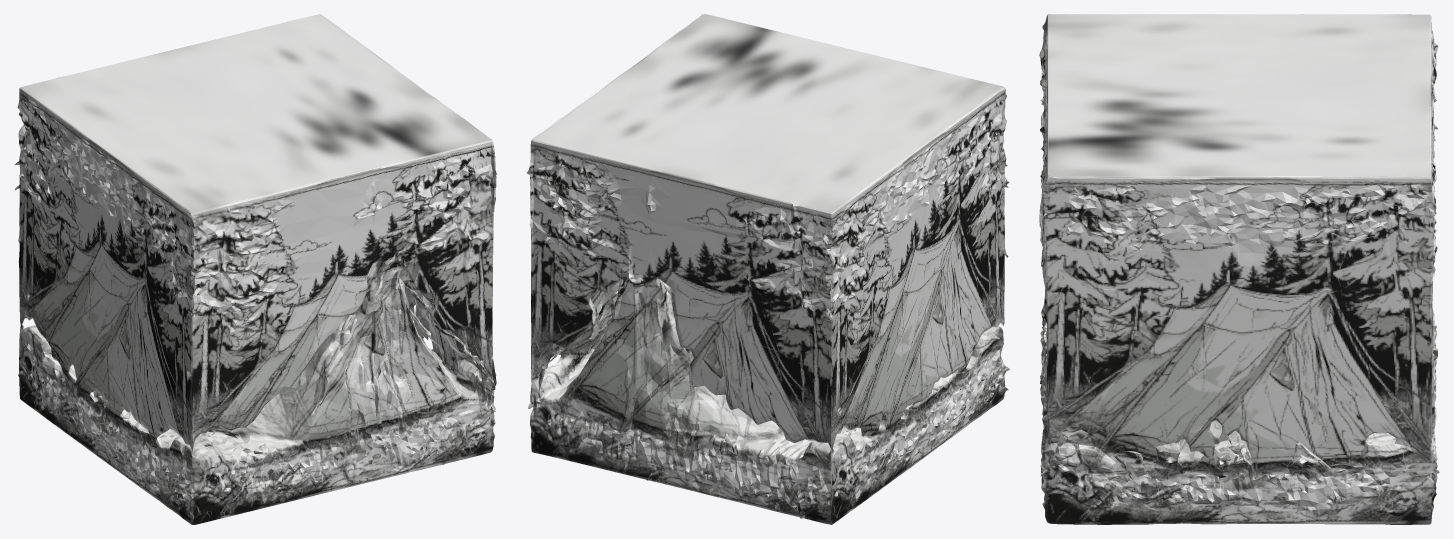
The model's file is tent.glb.
3 views of the same model, side by side, from view 1: azimuth 30°, elevation 25°; view 2: azimuth 150°, elevation 25°; view 3: azimuth 270°, elevation 25° (orthographic). The views are drawn at different scales.
Parts seen in each view (by area): view 1: tent; view 2: tent; view 3: tent.
Part boxes in pixels (<box>): tent: <box>15,14,497,524</box>; tent: <box>526,14,1010,524</box>; tent: <box>1039,14,1439,524</box>.
Size of the model in its own units: 2.15 by 2.05 by 2.13.
1 material, 1 textured.
